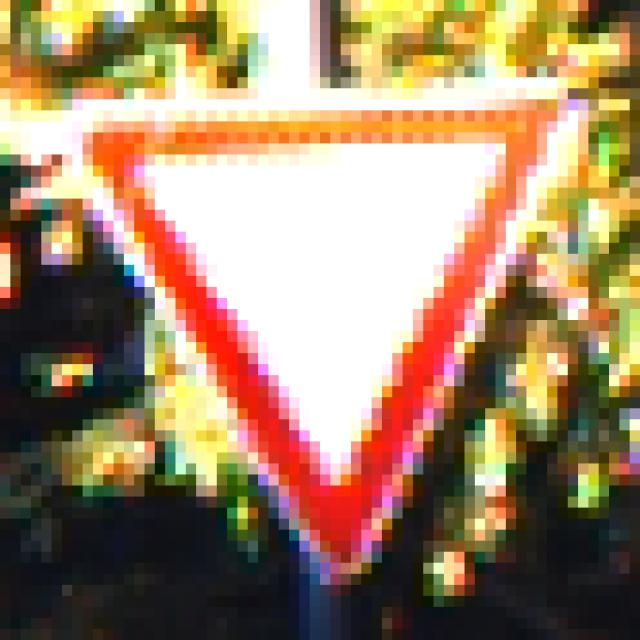Give Way: (63, 56, 589, 586)
